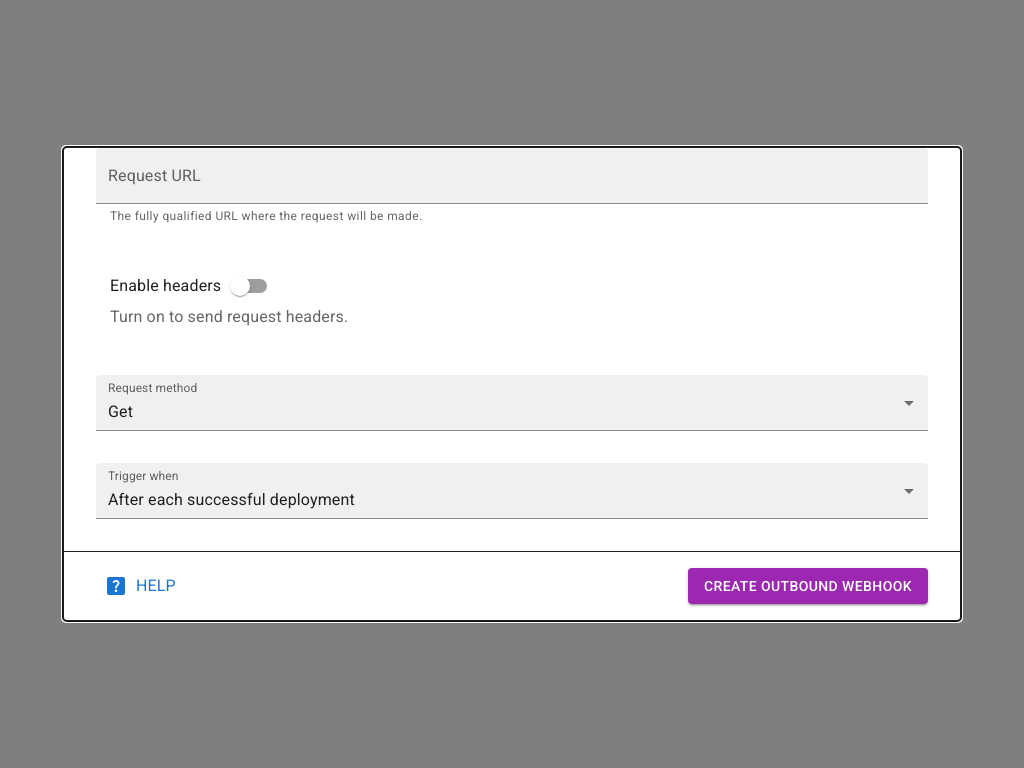
Test: ~/pages/apps/[id]/settings/_components/FormOutboundWebhookModal › always › should contain a help button which opens the help drawer
This screenshot has width=1024, height=768.
Check: the text "Help" is shown, box [136,574,176,598]
Click the button "Help": (140, 586) [96,568,184,604]
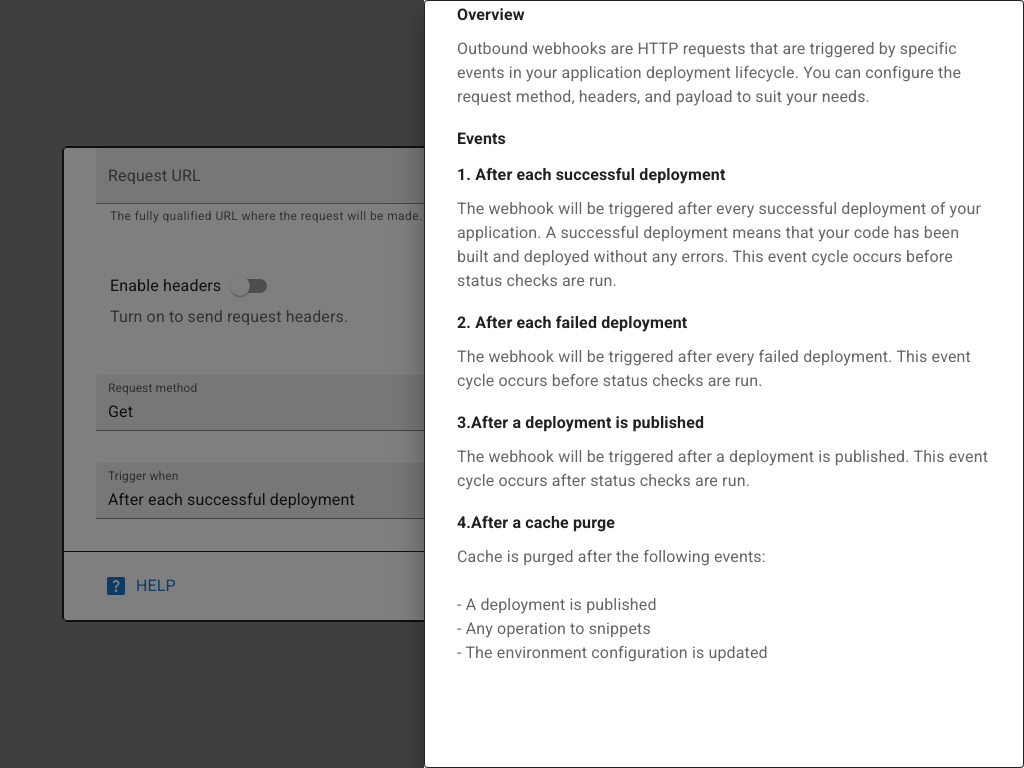
Check: the text "Outbound webhooks are HTTP requests" is shown, box [457,39,961,106]
